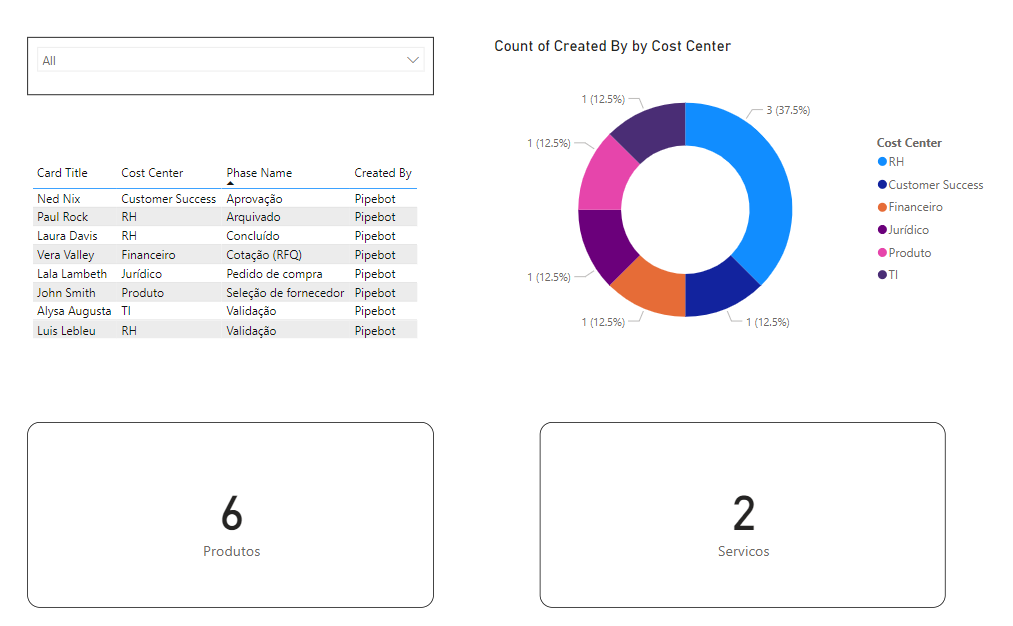

This screenshot's page, from the dashboard's own definition file:
{"tool":"powerbi","page":{"name":"Page 1","canvas":[1280,720],"ordinal":0},"visuals":[{"type":"tableEx","fields":{"Values":["api.Card Title","api.Cost Center","api.Phase Name","api.Created By"]},"box":[151.9,185.2,451.9,214.8],"z":0},{"type":"donutChart","fields":{"Category":["api.Cost Center"],"Y":["api.Created By"]},"box":[668.5,50,564.8,366.7],"z":1000},{"type":"card","fields":{"Values":["api (2).Measure3"]},"box":[724.3,480,452.9,207.1],"z":3000},{"type":"card","fields":{"Values":["api (2).Measure"]},"box":[151.9,479.6,453.7,207.4],"z":4000},{"type":"slicer","fields":{"Values":["api.Cost Center"]},"box":[151.9,50,453.7,64.8],"z":4001}]}

Visuals, with their boxes on the page's 1280x720 design canvas (x1, y1, x2, y2). These are canvas units, not pixel positions in the 1013x626 screenshot, which may show the page scaled, cropped or inside an application window:
tableEx - api.Card Title x api.Cost Center: [left=152, top=185, right=604, bottom=400]
donutChart - api.Cost Center x api.Created By: [left=668, top=50, right=1233, bottom=417]
card - api (2).Measure3: [left=724, top=480, right=1177, bottom=687]
card - api (2).Measure: [left=152, top=480, right=606, bottom=687]
slicer - api.Cost Center: [left=152, top=50, right=606, bottom=115]
